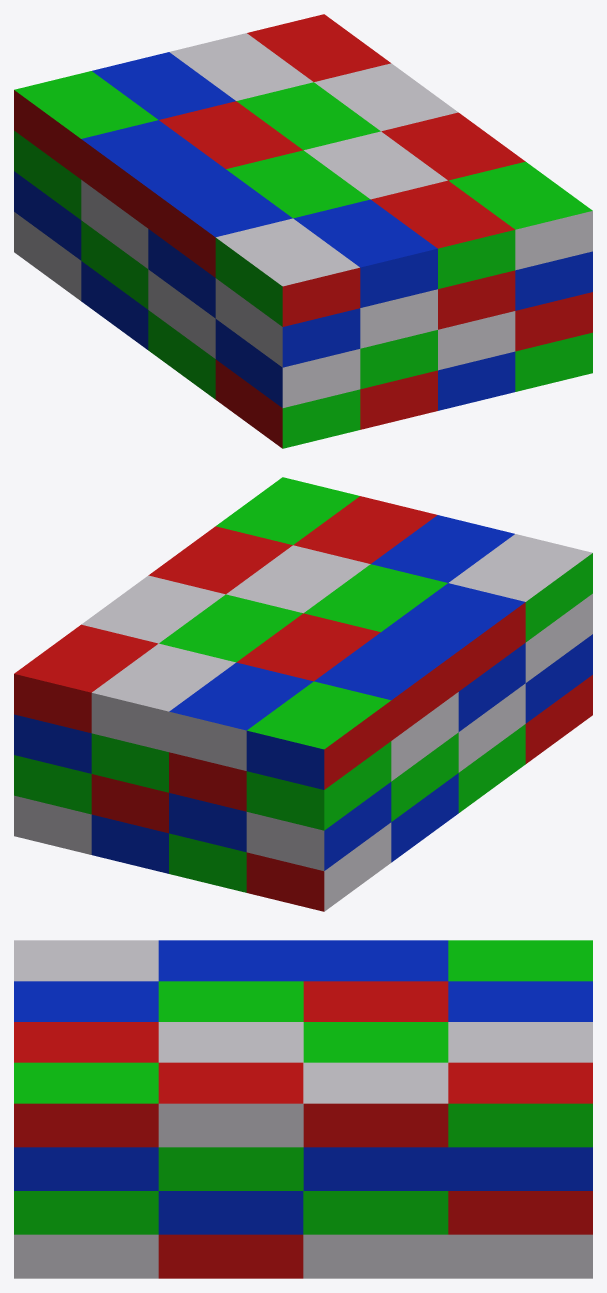
The model's file is colored_cube.obj.
The picture shows the model from 3 angles, top to bottom: view 1: azimuth 30°, elevation 25°; view 2: azimuth 150°, elevation 25°; view 3: azimuth 270°, elevation 25°; orthographic projection. The views are drawn at different scales.
Visible parts, largest first — view 1: Cube_Cube.001; view 2: Cube_Cube.001; view 3: Cube_Cube.001.
Boxes of the visible parts, x1,y1,x2,y2 form: Cube_Cube.001: (14, 14, 592, 448); Cube_Cube.001: (14, 477, 592, 911); Cube_Cube.001: (14, 940, 592, 1278).
Bounding box in the file's own units: 2 × 1 × 3.
